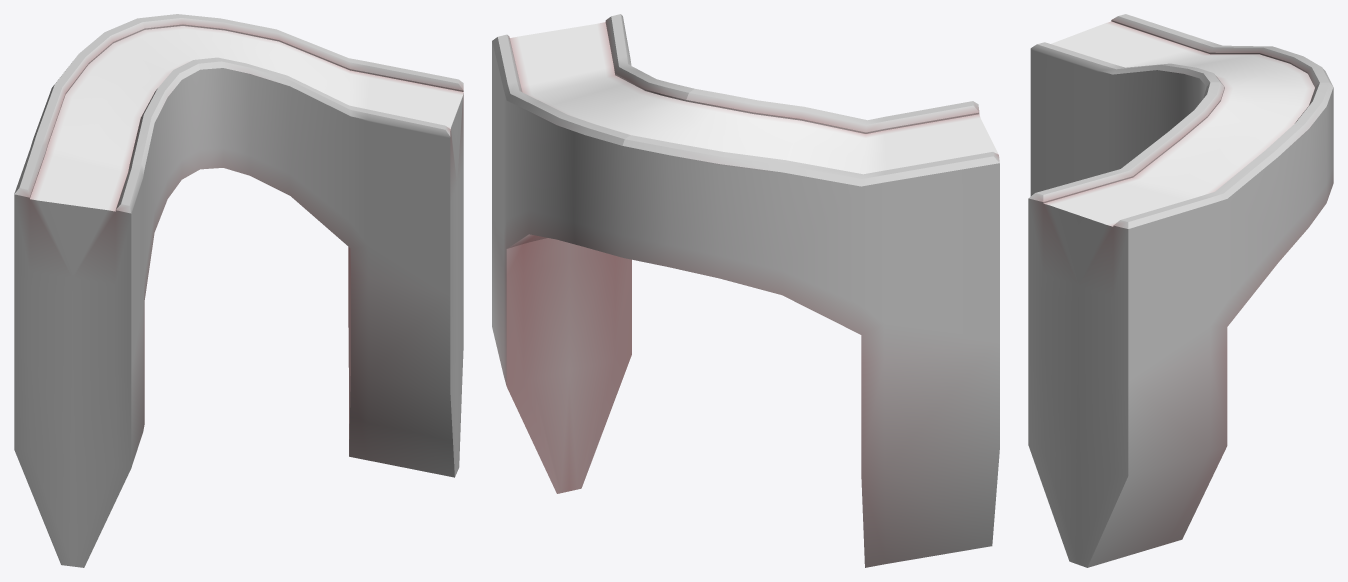
File: CityBridge_Curved_01.fbx
3 views of the same model, side by side, from view 1: azimuth 30°, elevation 25°; view 2: azimuth 150°, elevation 25°; view 3: azimuth 270°, elevation 25° (orthographic). The views are drawn at different scales.
Visible parts, largest first — view 1: bridge_cruve; view 2: bridge_cruve; view 3: bridge_cruve.
Part boxes in pixels (box(x1,y1,x2,y2)): bridge_cruve: box(14, 14, 463, 567); bridge_cruve: box(492, 14, 999, 567); bridge_cruve: box(1028, 14, 1333, 567).
Size of the model in its own units: 1507 by 1295 by 912.
